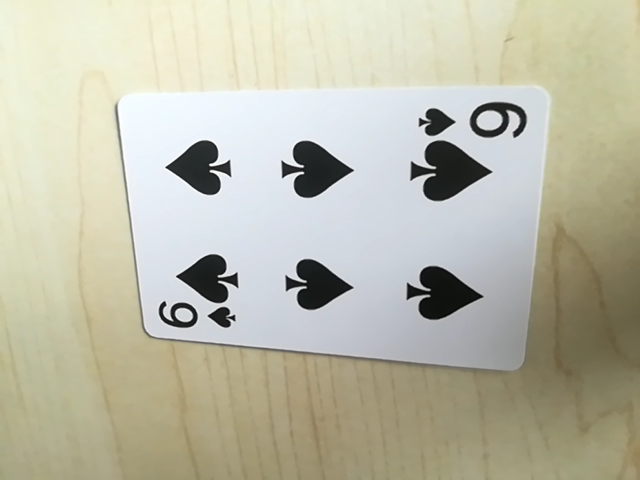ht 6: (413, 94, 531, 142), (152, 297, 241, 336)
